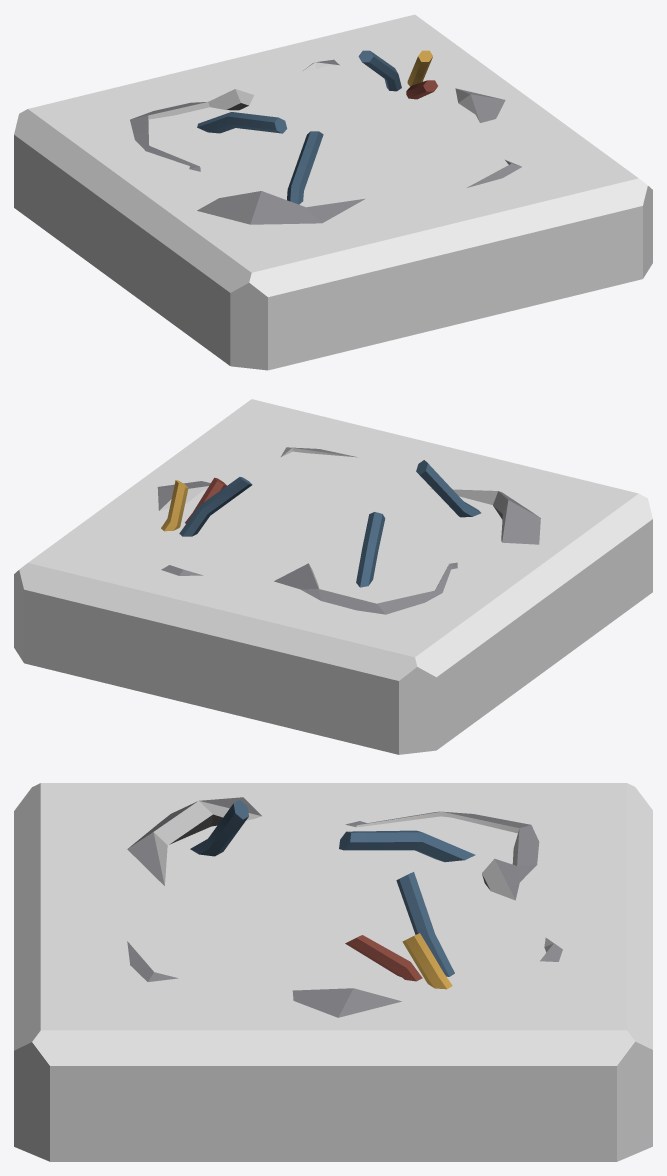
Rendered from SM_Prop_Detail_Panel_Broken_01.fbx.
The picture shows the model from 3 angles, top to bottom: view 1: azimuth 30°, elevation 25°; view 2: azimuth 150°, elevation 25°; view 3: azimuth 270°, elevation 25°; orthographic projection. The views are drawn at different scales.
Visible parts, largest first — view 1: SM_Prop_Detail_Panel_Broken_01_ConvexHulls, SM_Prop_Detail_Panel_Broken_01_LOD0; view 2: SM_Prop_Detail_Panel_Broken_01_ConvexHulls, SM_Prop_Detail_Panel_Broken_01_LOD0; view 3: SM_Prop_Detail_Panel_Broken_01_ConvexHulls, SM_Prop_Detail_Panel_Broken_01_LOD0.
Part boxes in pixels (x1,y1,x2,y2): SM_Prop_Detail_Panel_Broken_01_ConvexHulls: (14,14,652,370); SM_Prop_Detail_Panel_Broken_01_LOD0: (130,50,521,224); SM_Prop_Detail_Panel_Broken_01_ConvexHulls: (14,399,652,754); SM_Prop_Detail_Panel_Broken_01_LOD0: (157,447,540,614); SM_Prop_Detail_Panel_Broken_01_ConvexHulls: (14,783,652,1161); SM_Prop_Detail_Panel_Broken_01_LOD0: (127,797,562,1017).
Size of the model in its own units: 99.88 by 99.88 by 33.45.
1 material, 1 textured.
